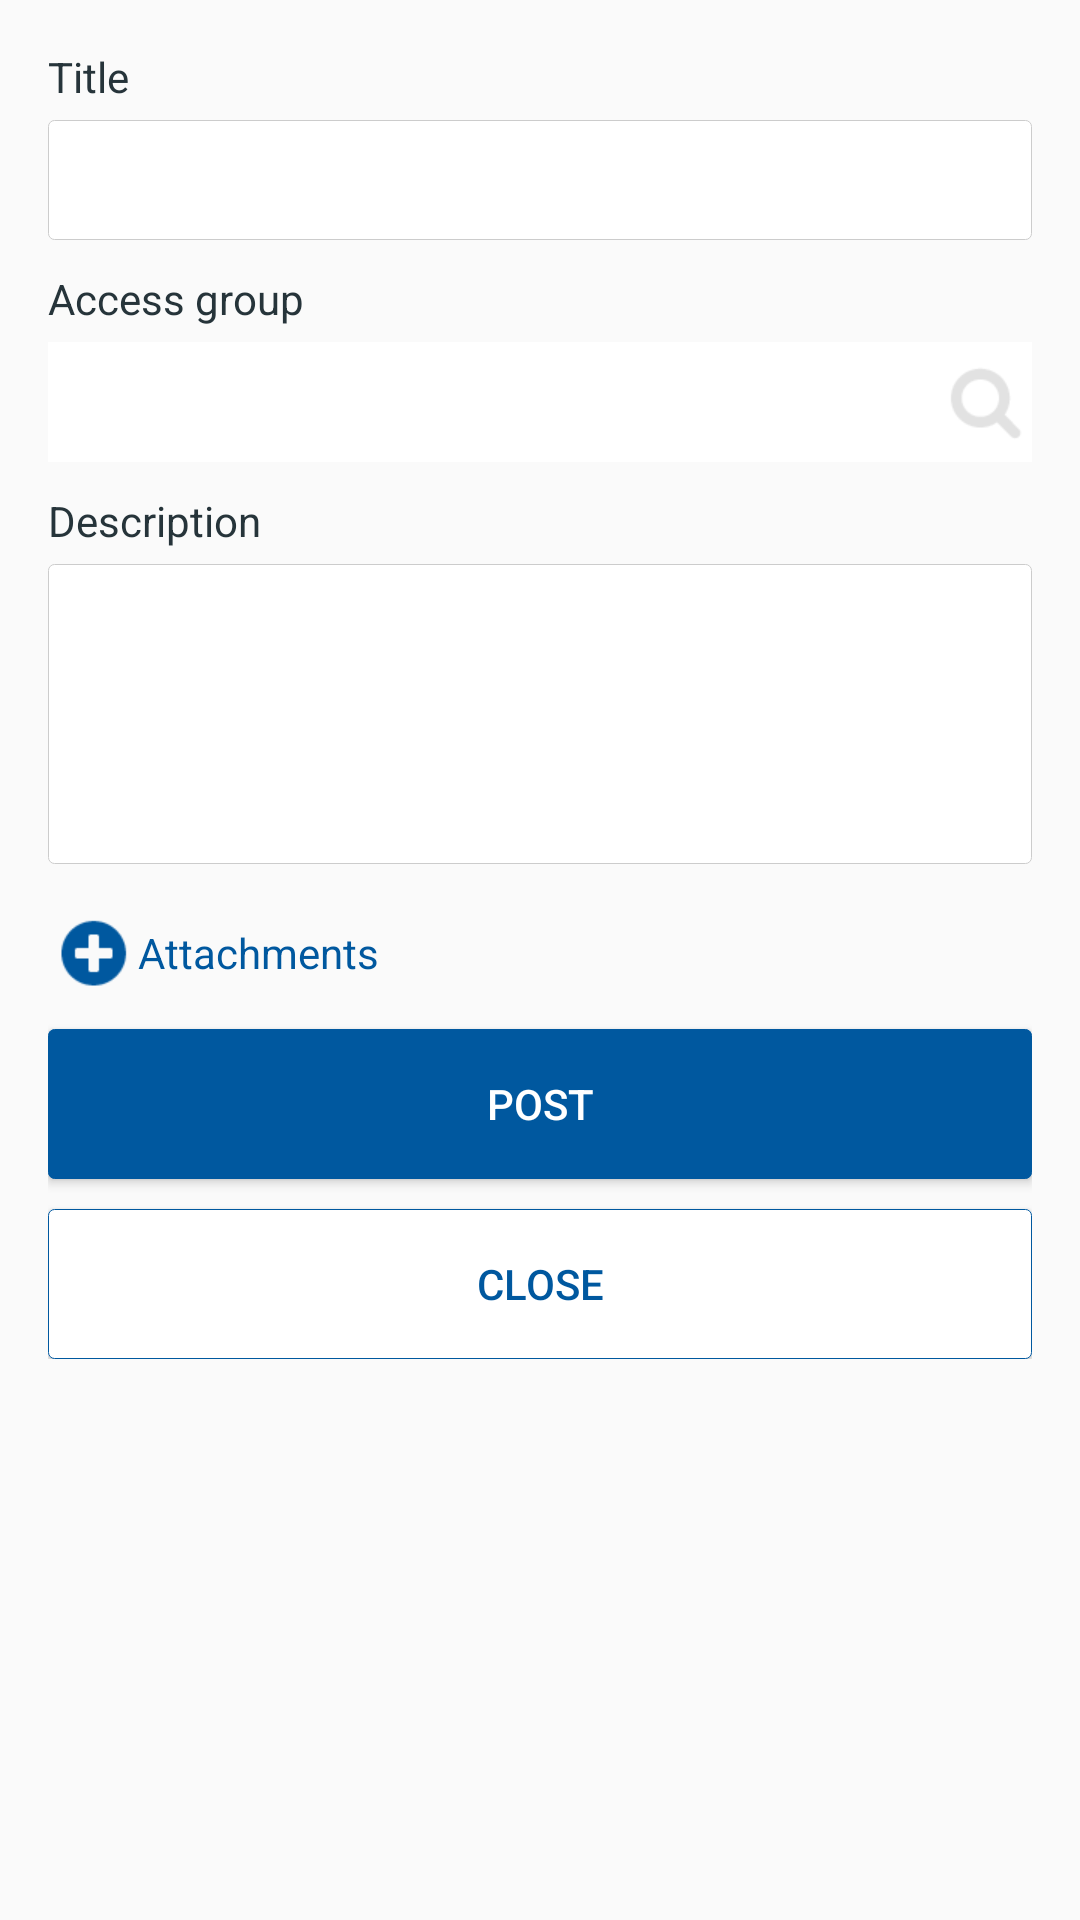

Point at icon controls on the screen. Image size 1080 × 1920, points as point (x, y).
search: point (986, 403)
